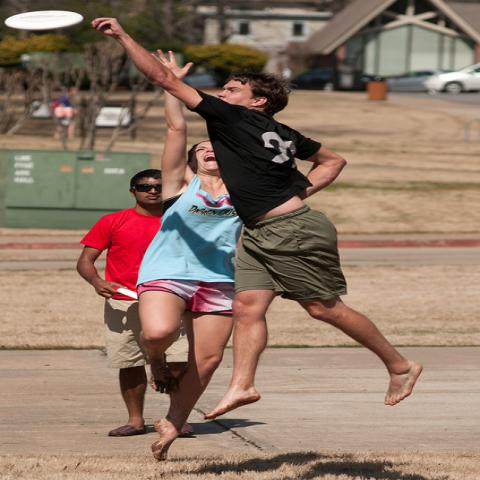car: (424, 63, 479, 94), (385, 69, 444, 92), (288, 70, 336, 89)
